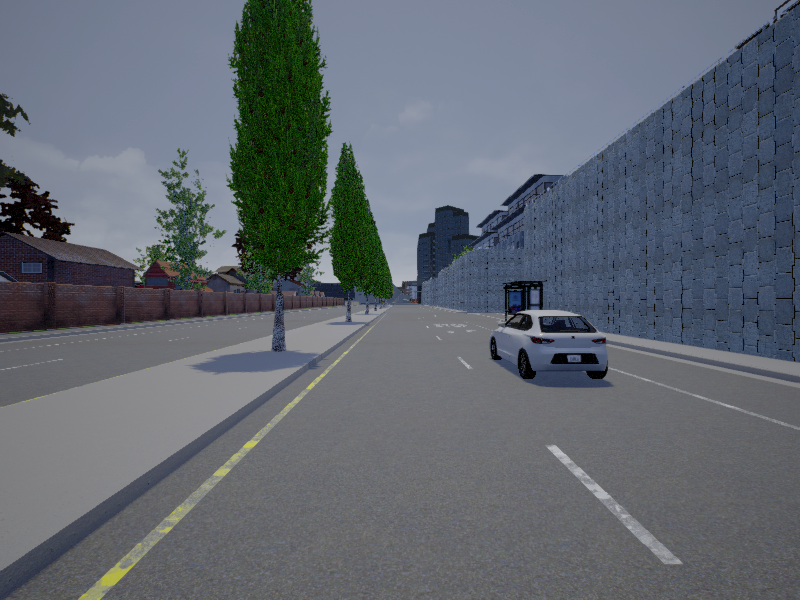Benign: (489, 309, 608, 379)
